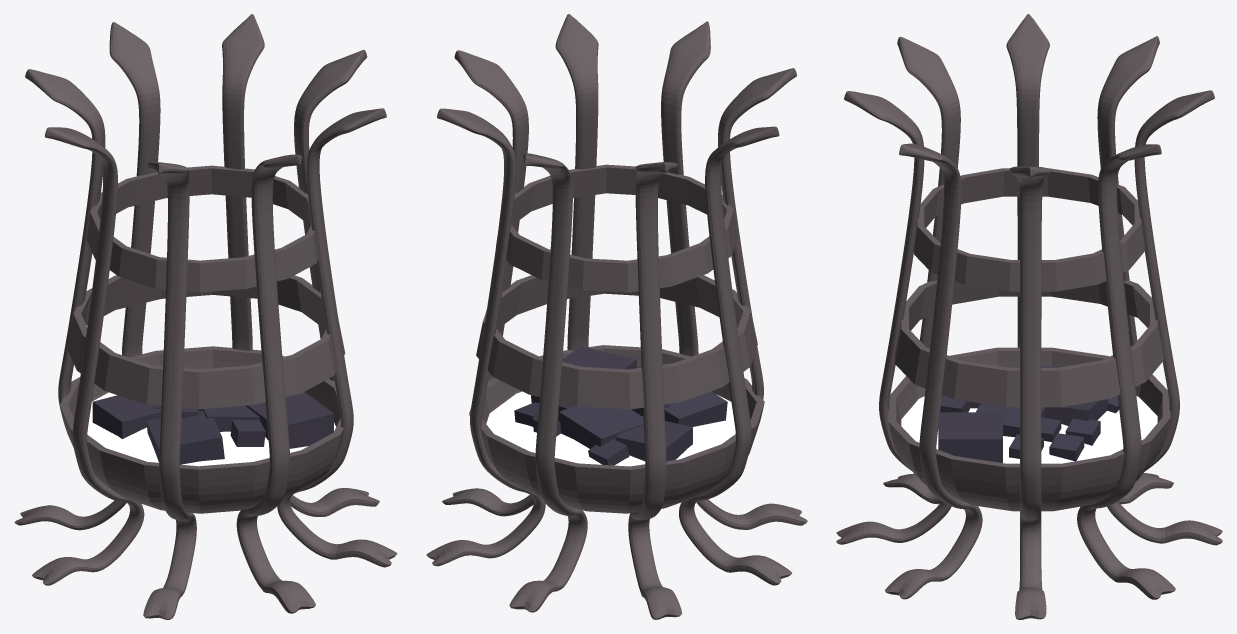
Rendered from Brazier.fbx.
3 renders of one model, left to right at view 1: azimuth 30°, elevation 25°; view 2: azimuth 150°, elevation 25°; view 3: azimuth 270°, elevation 25°, orthographic.
Parts seen in each view (by area): view 1: Cube.200; view 2: Cube.200; view 3: Cube.200.
Part boxes in pixels (x1,y1,x2,y2): Cube.200: [14, 14, 397, 619]; Cube.200: [426, 14, 807, 619]; Cube.200: [836, 14, 1222, 619].
Bounding box in the file's own units: 113 × 145 × 113.
